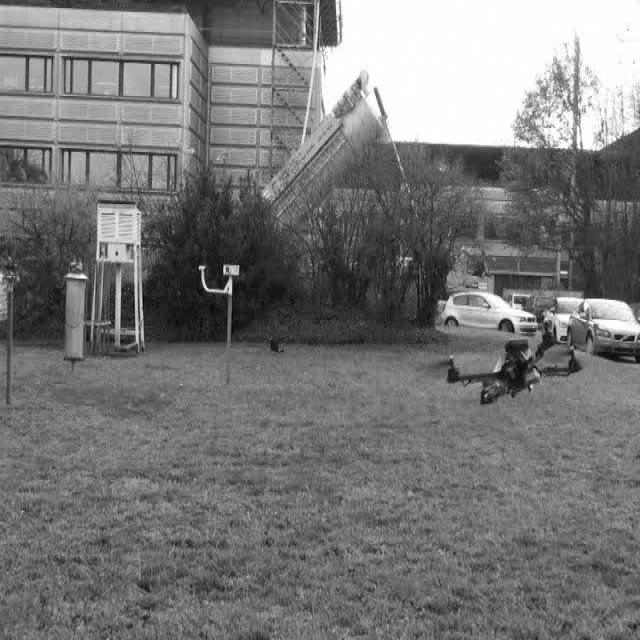drone: (408, 318, 593, 412)
